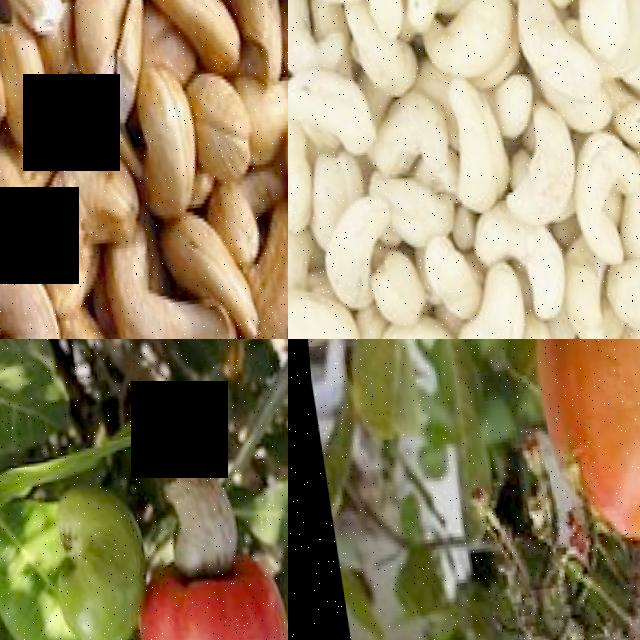cashew: (10, 471, 147, 640), (115, 451, 241, 589), (0, 157, 138, 268), (116, 57, 204, 220), (160, 201, 259, 339), (485, 88, 573, 231), (495, 4, 587, 100), (363, 165, 450, 262), (89, 253, 186, 339), (306, 198, 383, 302), (438, 75, 493, 212), (288, 62, 378, 144), (453, 268, 523, 339), (0, 249, 45, 339), (587, 263, 640, 333), (288, 290, 350, 339), (288, 117, 309, 229), (288, 233, 314, 311), (288, 0, 318, 66), (272, 169, 288, 287)
